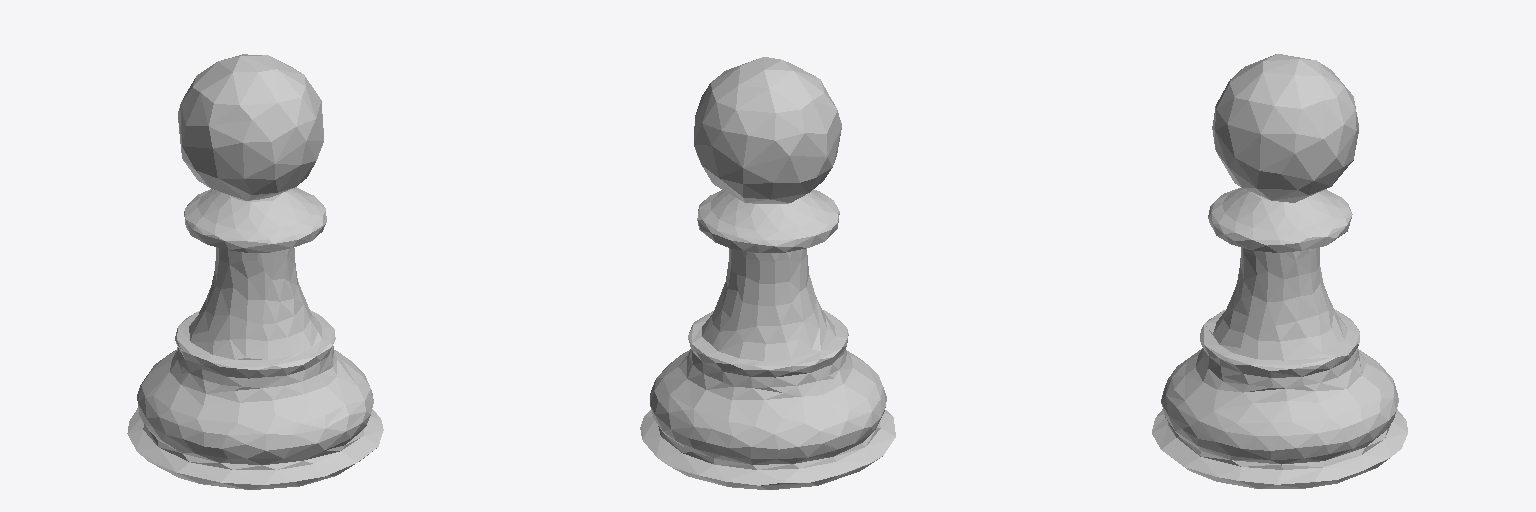
File: pawn.obj
3 views of the same model, side by side, from view 1: azimuth 30°, elevation 25°; view 2: azimuth 150°, elevation 25°; view 3: azimuth 270°, elevation 25° (orthographic).
Parts seen in each view (by area): view 1: Vert.004; view 2: Vert.004; view 3: Vert.004.
Boxes of the visible parts, x1=… form: Vert.004: x1=127, y1=54, x2=383, y2=489; Vert.004: x1=640, y1=57, x2=895, y2=489; Vert.004: x1=1152, y1=54, x2=1407, y2=488.
Size of the model in its own units: 0.9087 by 1.51 by 0.9077.